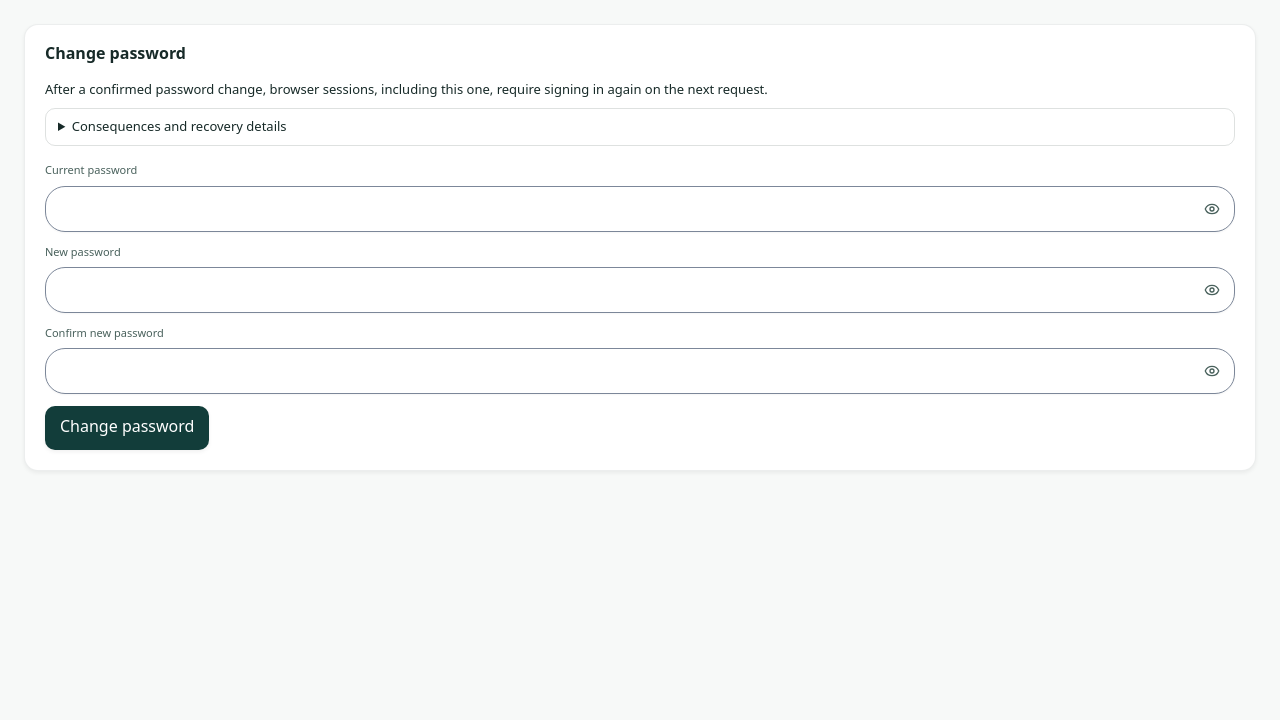
password HTTP 400 preserves input and keeps provider body private
Type "fixture-current" into the password field labelled "Current password" at (618, 208), box [46, 186, 1190, 230]
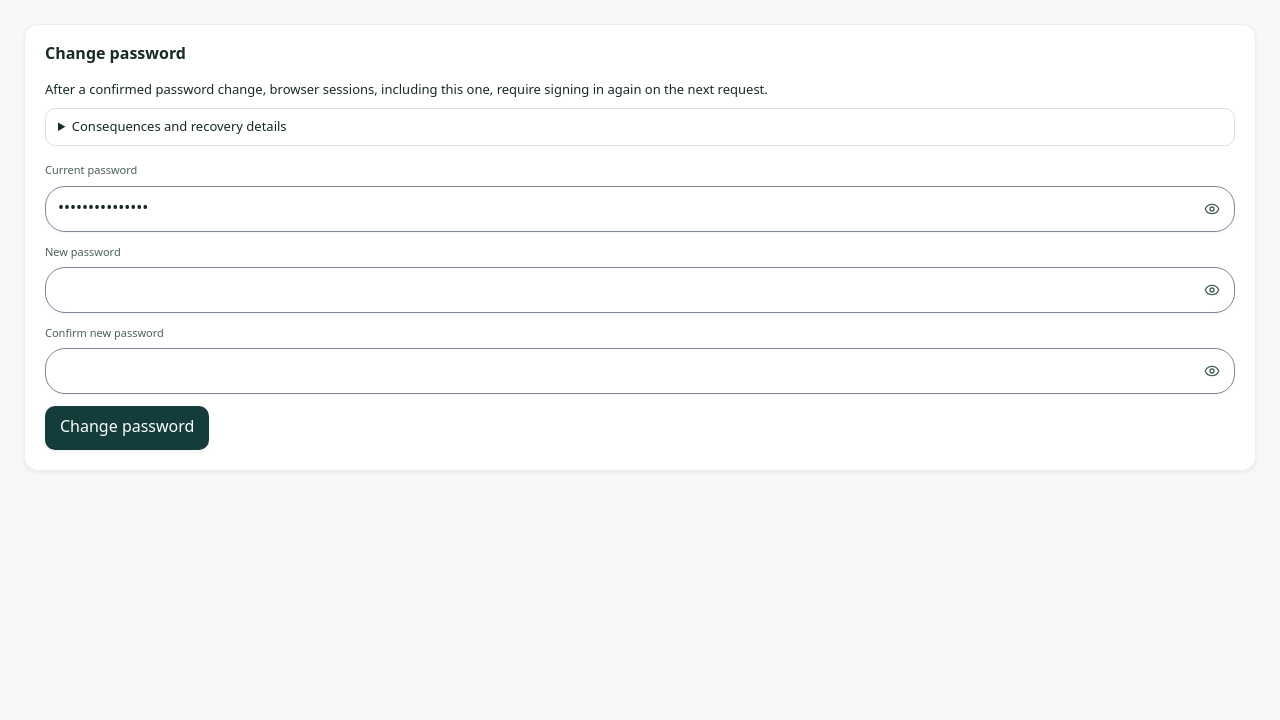
Type "fixture-new" into the password field labelled "New password" at (618, 290), box [46, 268, 1190, 312]
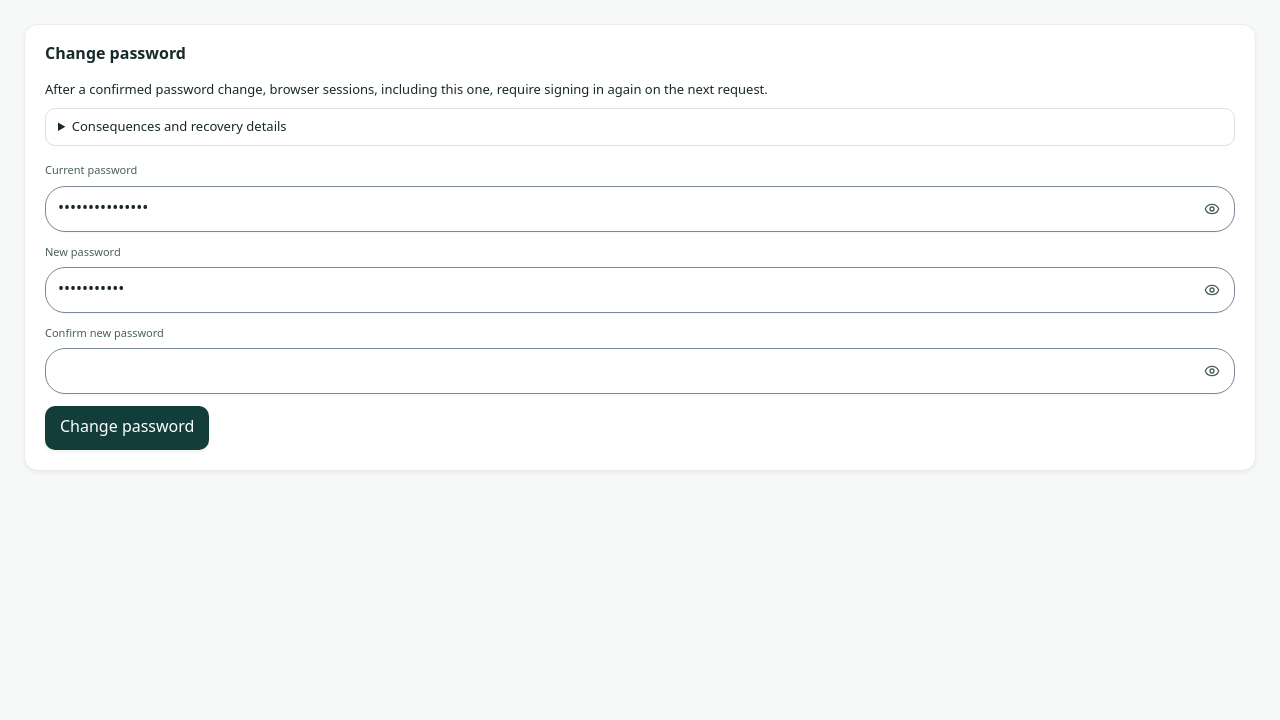
Type "fixture-new" into the password field labelled "Confirm new password" at (618, 371), box [46, 349, 1190, 393]
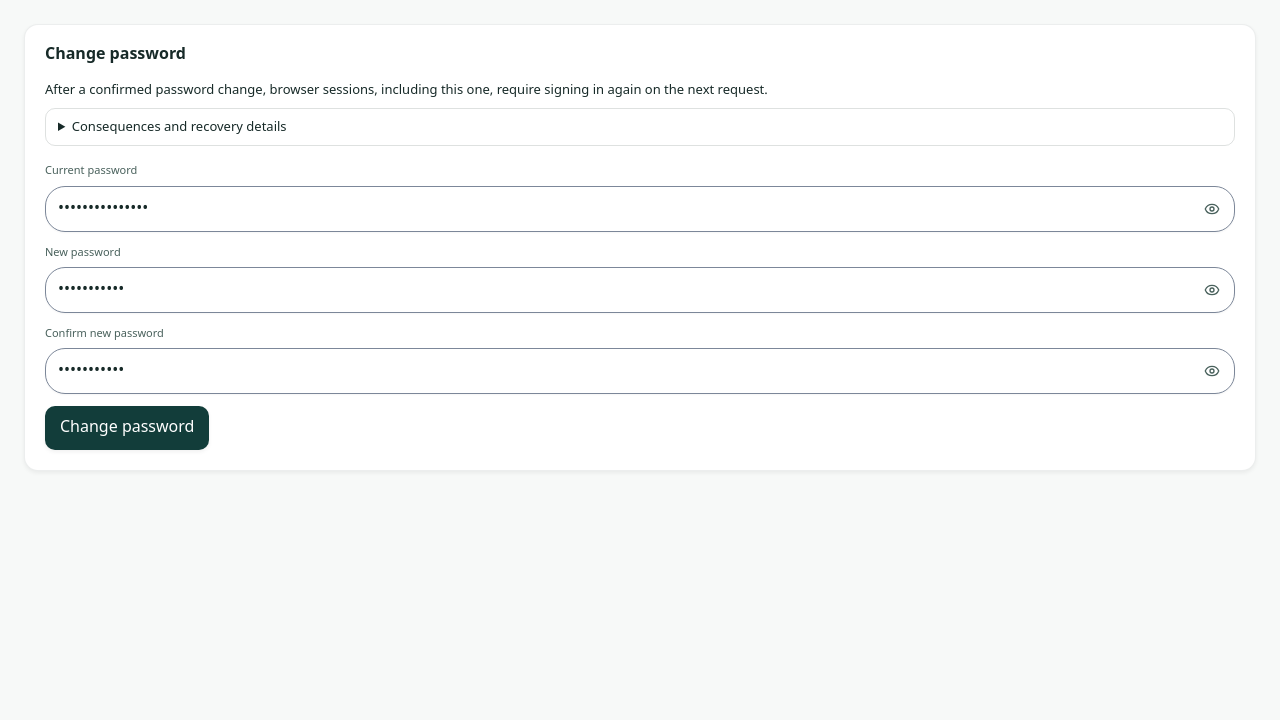
Click the button "Change password" at (127, 428), box [45, 406, 209, 450]
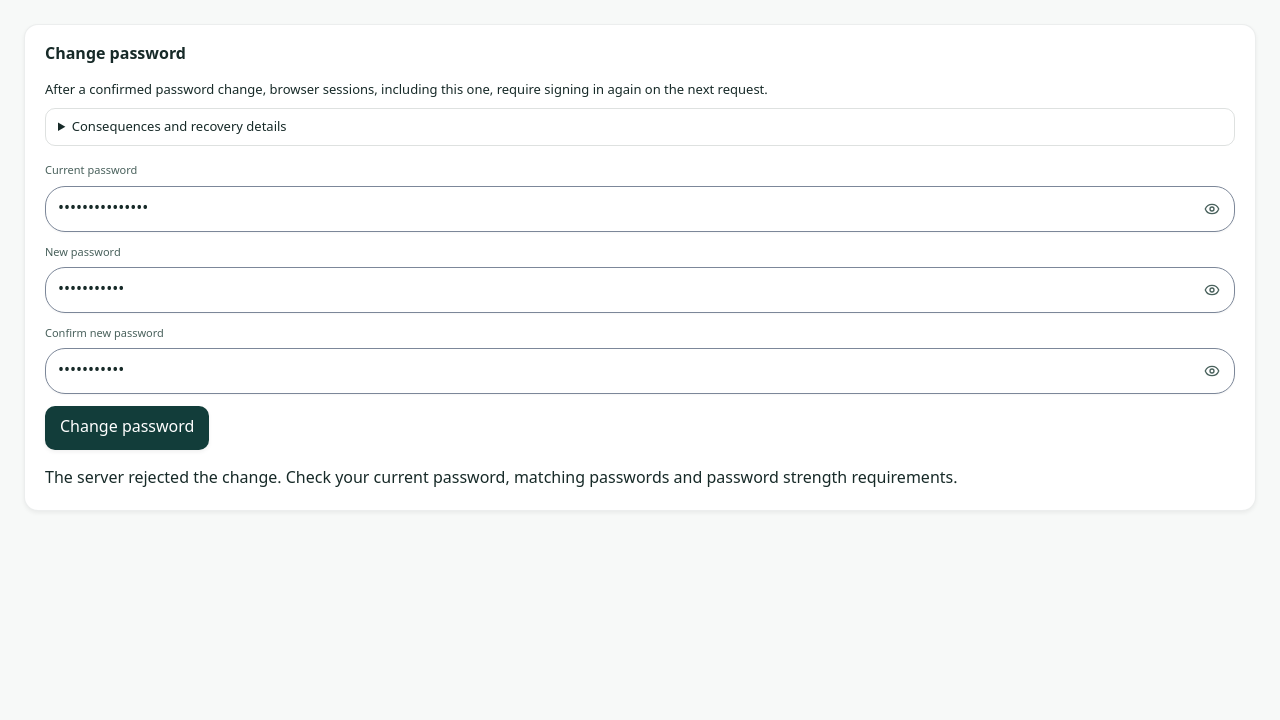
Check: the text "The server rejected the change. Check your current password, matching passwords and password strength requirements." is shown, box [45, 461, 958, 495]
Type "fixture-corrected" into the password field labelled "Current password" at (618, 208), box [46, 186, 1190, 230]
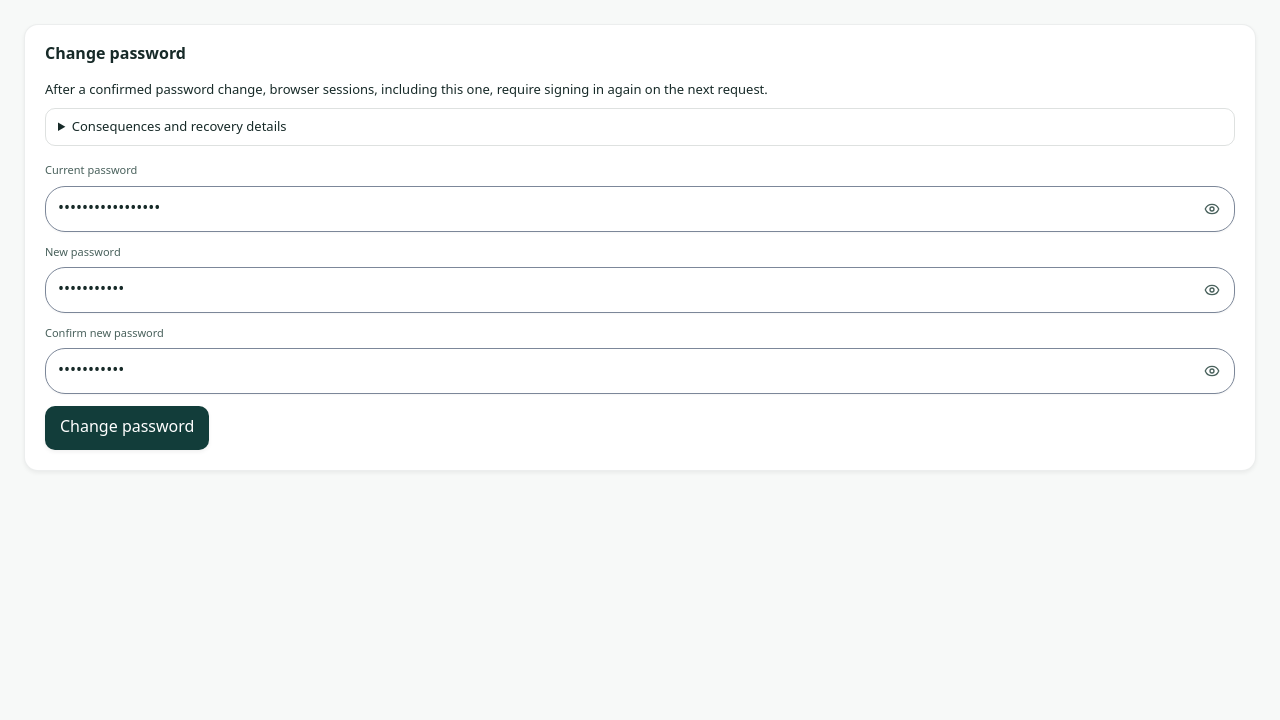
Check: the button "Change password" is enabled, box [45, 406, 209, 450]
Check: the text "The server rejected the change. Check your current password, matching passwords and password strength requirements." is gone
